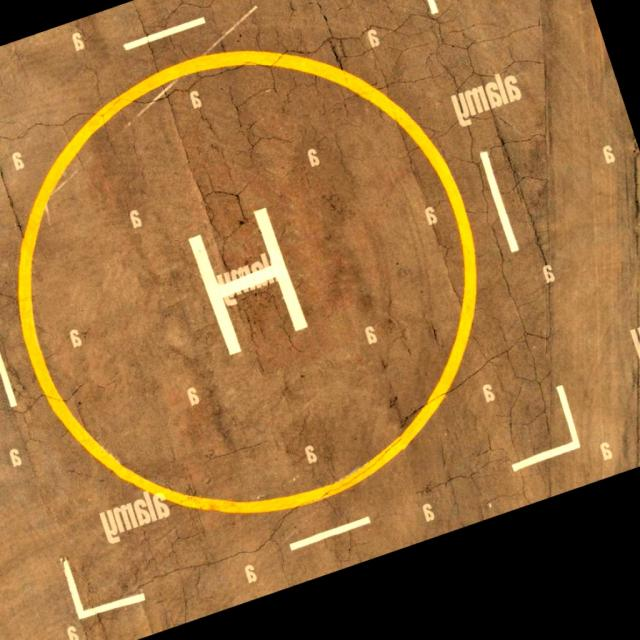helipad: (9, 40, 483, 519)
